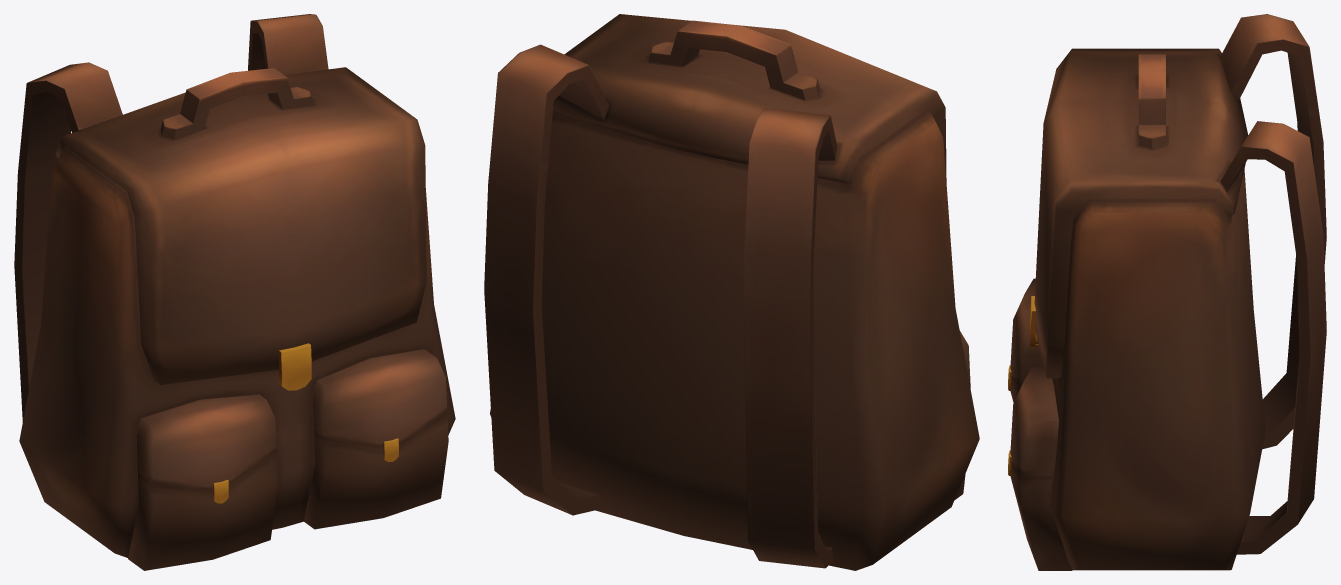
The model's file is backpack.FBX.
The picture shows the model from 3 angles, left to right: view 1: azimuth 30°, elevation 25°; view 2: azimuth 150°, elevation 25°; view 3: azimuth 270°, elevation 25°; orthographic projection. The views are drawn at different scales.
Visible parts, largest first — view 1: backpack; view 2: backpack; view 3: backpack.
Boxes of the visible parts, x1=… form: backpack: x1=14, y1=14, x2=455, y2=570; backpack: x1=484, y1=14, x2=979, y2=570; backpack: x1=1008, y1=14, x2=1326, y2=570.
Bounding box in the file's own units: 40.83 × 46.42 × 31.43.
